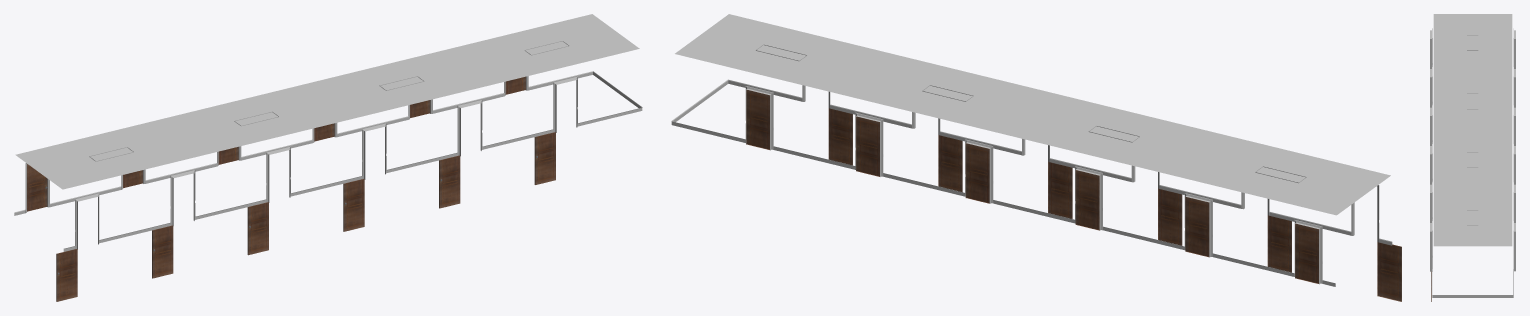
The model's file is hall97.fbx.
3 views of the same model, side by side, from view 1: azimuth 30°, elevation 25°; view 2: azimuth 150°, elevation 25°; view 3: azimuth 270°, elevation 25° (orthographic). The views are drawn at different scales.
Parts seen in each view (by area): view 1: group_1, group_0, instance_8, instance_11, instance_12, instance_7, instance_9, instance_10, instance_0; view 2: group_1, group_0, instance_2, instance_1, instance_3, instance_9, instance_4, instance_5, instance_0, instance_7, instance_10, instance_8 (+2 smaller); view 3: group_1, group_0.
Part boxes in pixels (x1=…): group_1: x1=15, y1=14, x2=639, y2=189; group_0: x1=14, y1=71, x2=642, y2=251; instance_8: x1=152, y1=225, x2=173, y2=278; instance_11: x1=247, y1=202, x2=268, y2=255; instance_12: x1=439, y1=155, x2=460, y2=208; instance_7: x1=343, y1=179, x2=364, y2=231; instance_9: x1=56, y1=249, x2=77, y2=301; instance_10: x1=534, y1=132, x2=555, y2=184; instance_0: x1=27, y1=164, x2=47, y2=211; group_1: x1=675, y1=14, x2=1390, y2=215; group_0: x1=671, y1=79, x2=1392, y2=286; instance_2: x1=1075, y1=170, x2=1099, y2=230; instance_1: x1=1185, y1=196, x2=1209, y2=257; instance_3: x1=965, y1=143, x2=989, y2=203; instance_9: x1=1377, y1=242, x2=1401, y2=301; instance_4: x1=856, y1=116, x2=879, y2=176; instance_5: x1=746, y1=89, x2=769, y2=149; instance_0: x1=1295, y1=223, x2=1318, y2=283; instance_7: x1=1048, y1=161, x2=1072, y2=218; instance_10: x1=828, y1=108, x2=852, y2=165; instance_8: x1=1267, y1=215, x2=1291, y2=272; group_1: x1=1433, y1=14, x2=1512, y2=246; group_0: x1=1430, y1=28, x2=1515, y2=297.
Bounding box in the file's own units: 1073 × 165 × 192.
